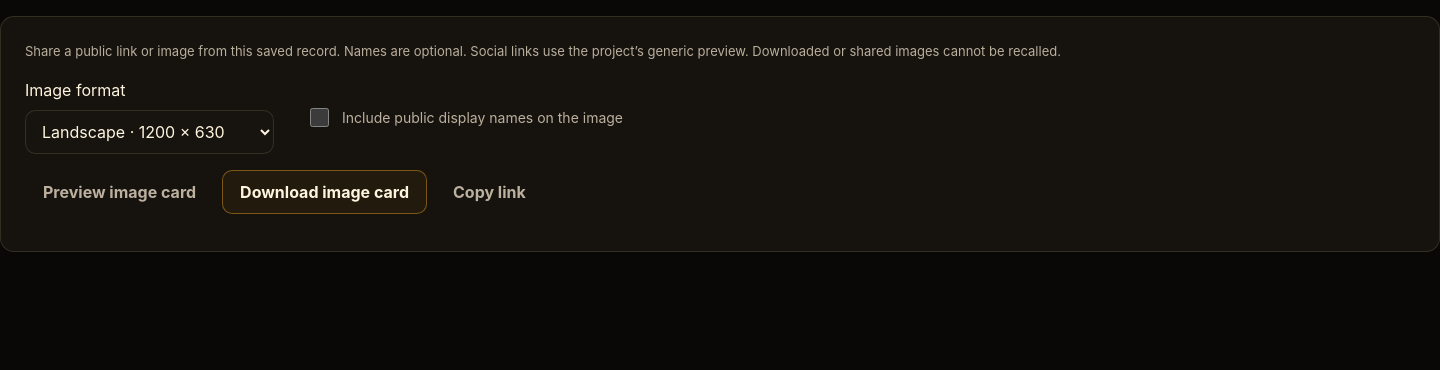
Test: ShareActions › focuses and selects the public link when copying is unavailable
Click the button "Copy link": (489, 192) [435,170,544,214]
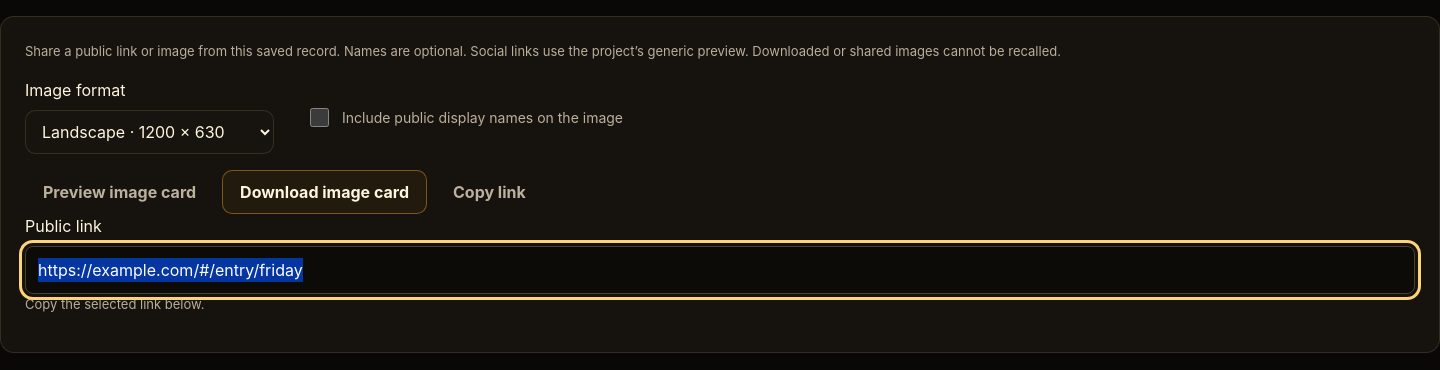
Expected: the field labelled "Public link" holds "https://example.com/#/entry/friday", [25,246,1415,294]
Expected: the message reads "Copy the selected link below.", [25,296,204,312]
